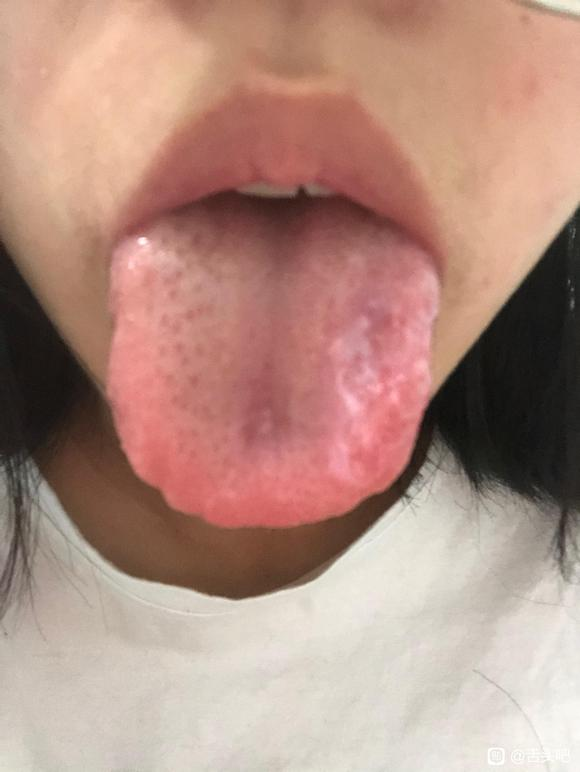hongdianshe: (186, 372, 198, 389)
hongshe: (109, 204, 438, 529)
pangdashe: (109, 204, 438, 529)
